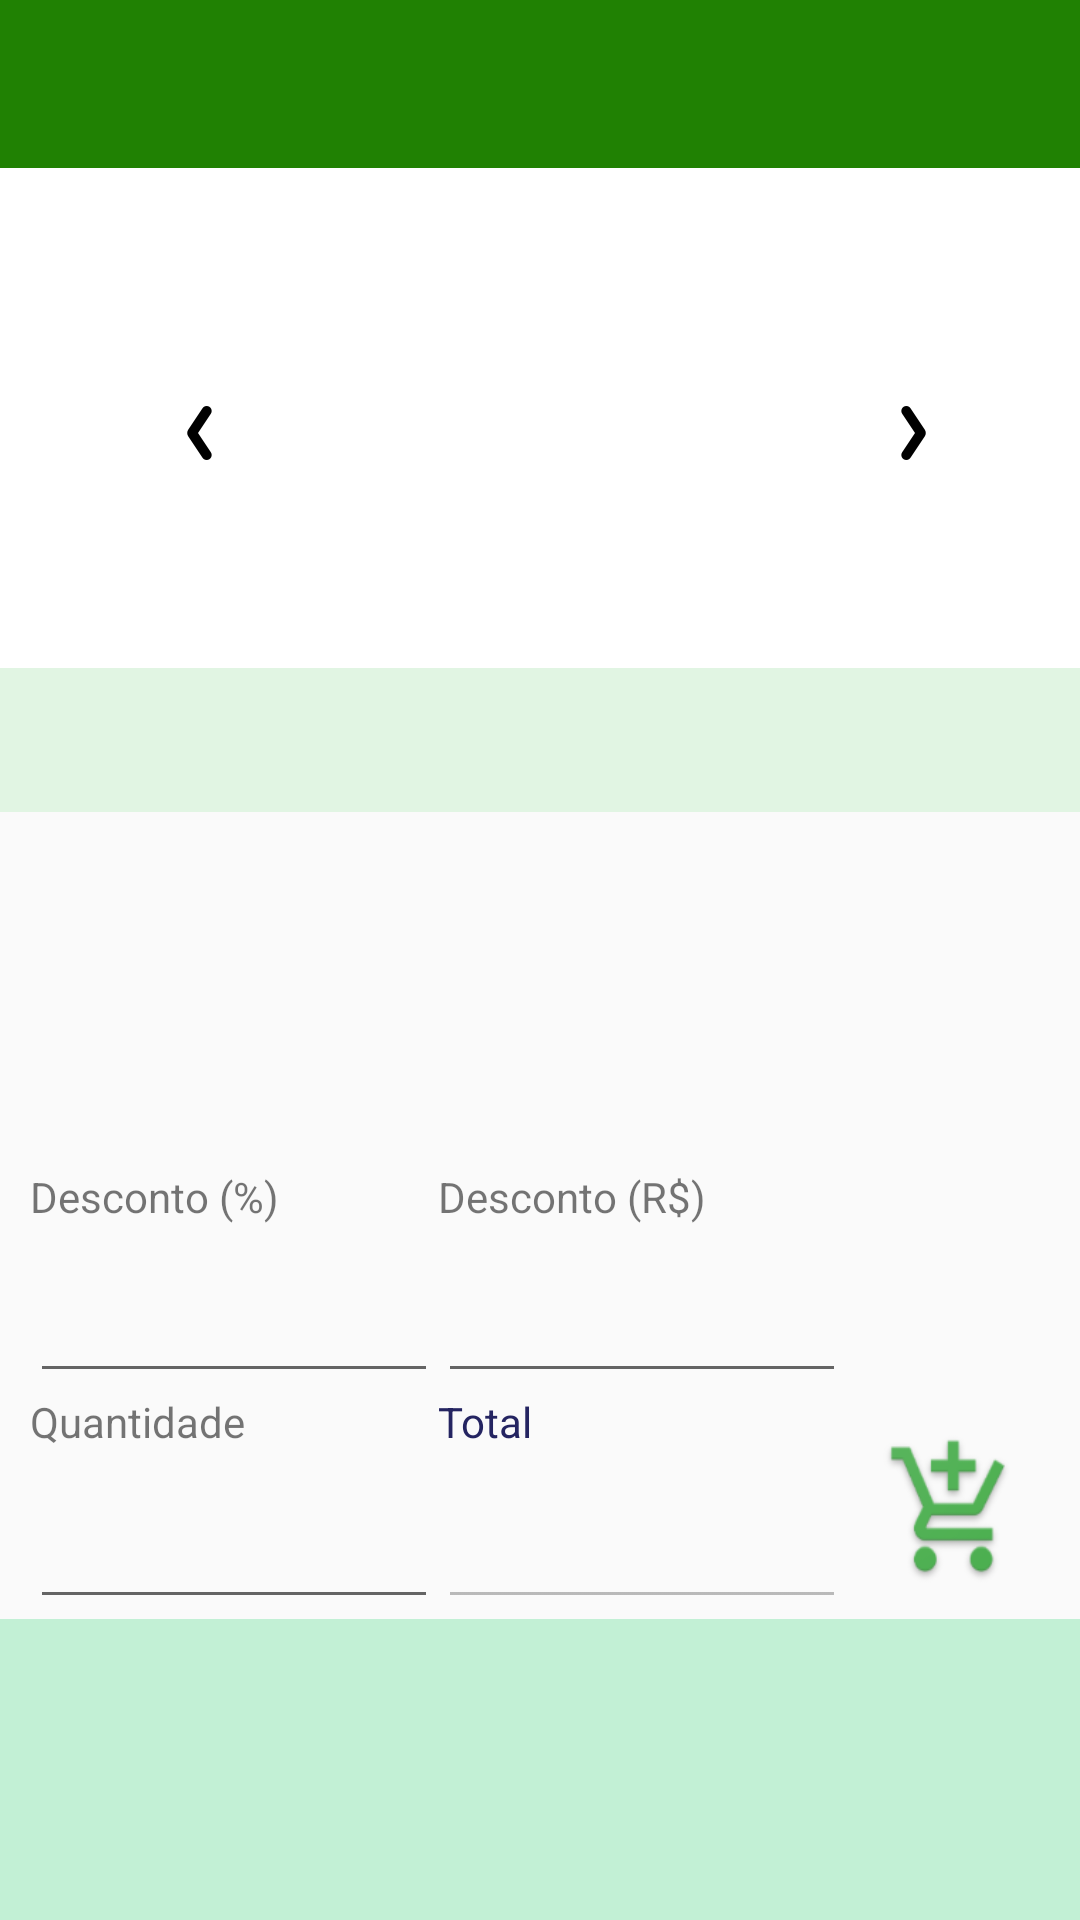

Locate icon controls on the screen. Image size 1080w x 1920h, boxes as (x1, y1, x2, y2).
carrinho add: (890, 1440, 1005, 1576)
next: (901, 406, 926, 460)
prev: (187, 406, 212, 460)
